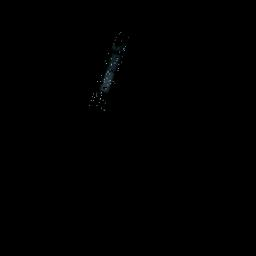boat: (88, 30, 130, 112)
